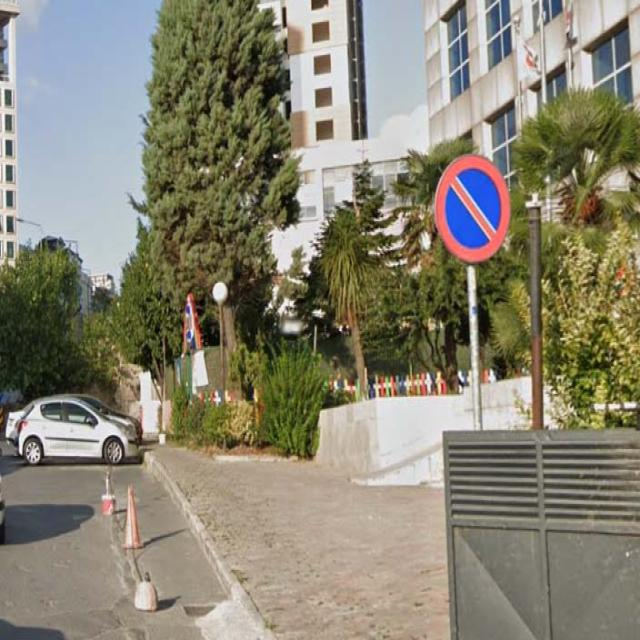parkyasak: (435, 156, 511, 262)
